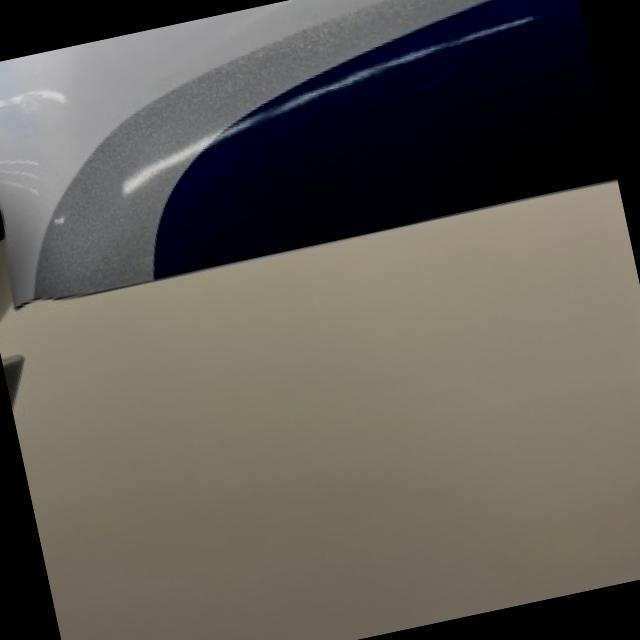healthy: (0, 179, 640, 640), (0, 0, 482, 296)
